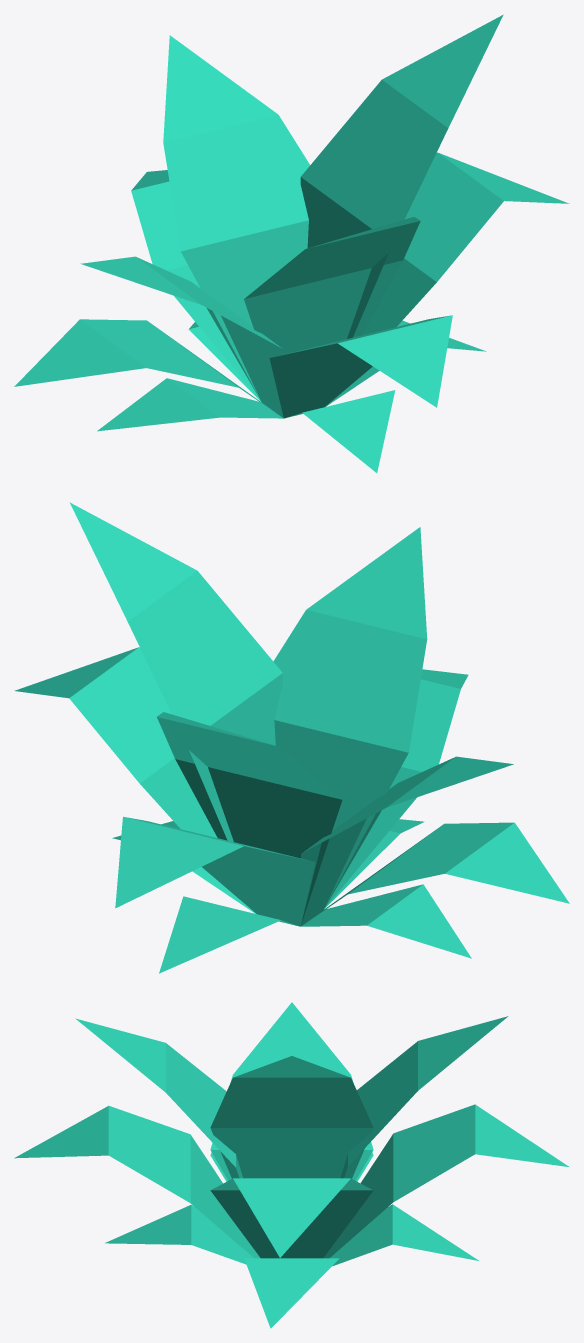
Rendered from plant_bushDetailed.dae.
3 views of the same model, one above another, from view 1: azimuth 30°, elevation 25°; view 2: azimuth 150°, elevation 25°; view 3: azimuth 270°, elevation 25° (orthographic). The views are drawn at different scales.
Visible parts, largest first — view 1: plant_bushDetailed; view 2: plant_bushDetailed; view 3: plant_bushDetailed.
Part boxes in pixels (x1,y1,x2,y2): plant_bushDetailed: (14,14,569,472); plant_bushDetailed: (14,502,569,973); plant_bushDetailed: (14,1002,569,1328).
Bounding box in the file's own units: 0.6025 × 0.3604 × 0.6025.
